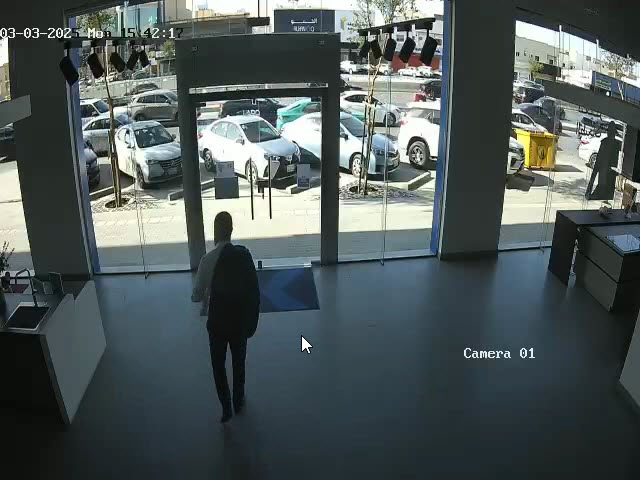male: (191, 211, 261, 423)
other: (585, 123, 622, 201)
